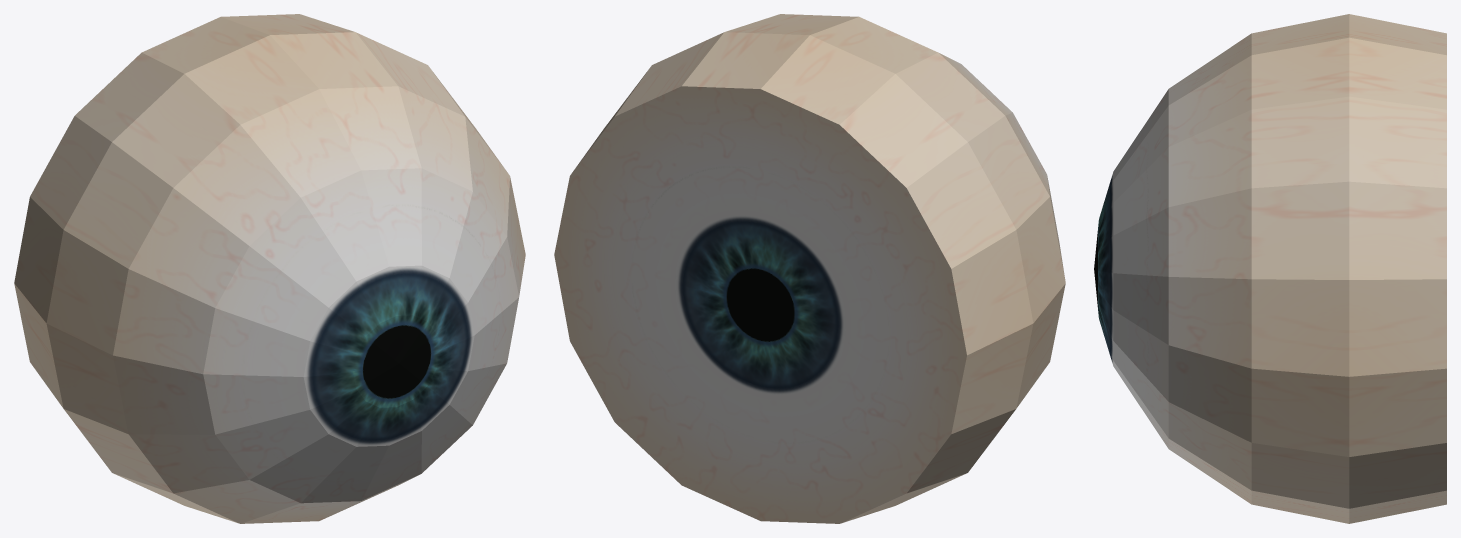
Rendered from eyeball_right.obj.
The picture shows the model from 3 angles, left to right: view 1: azimuth 30°, elevation 25°; view 2: azimuth 150°, elevation 25°; view 3: azimuth 270°, elevation 25°; orthographic projection.
Parts seen in each view (by area): view 1: Default; view 2: Default; view 3: Default.
Part boxes in pixels (x1=…): Default: x1=14, y1=14, x2=525, y2=523; Default: x1=554, y1=14, x2=1065, y2=523; Default: x1=1094, y1=14, x2=1446, y2=523.
Bounding box in the file's own units: 0.2242 × 0.2242 × 0.155.
